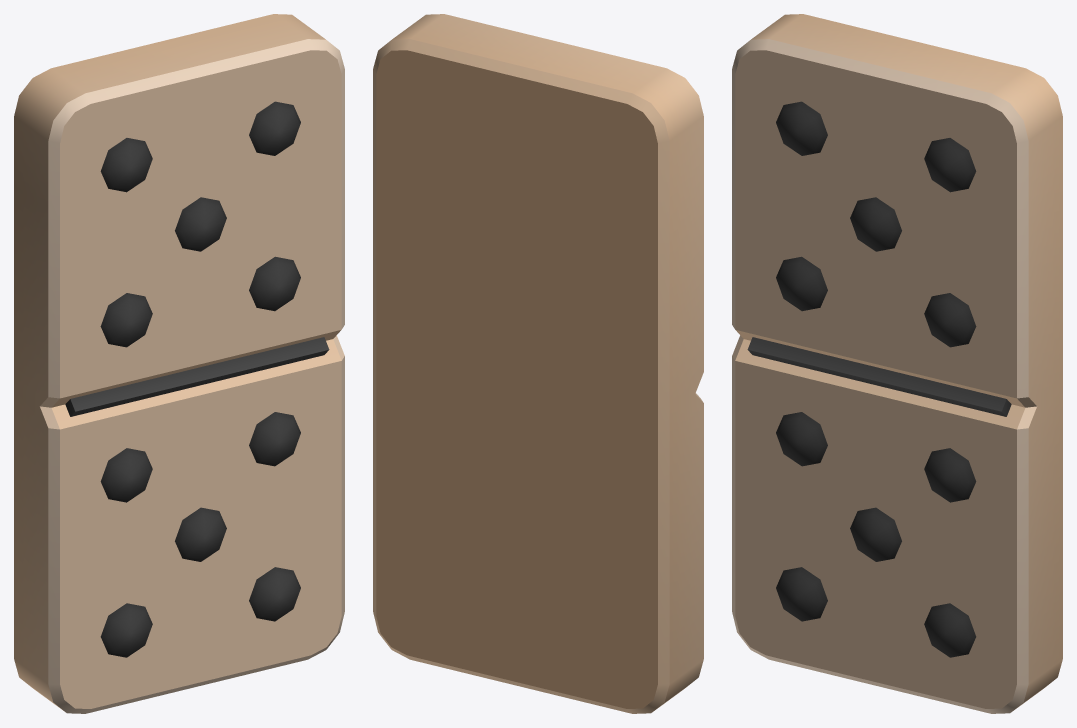
File: KFB_Domino_5-5.r1.glb
3 renders of one model, left to right at view 1: azimuth 30°, elevation 25°; view 2: azimuth 150°, elevation 25°; view 3: azimuth 330°, elevation 25°, orthographic.
Visible parts, largest first — view 1: KFB_Domino_5-5; view 2: KFB_Domino_5-5; view 3: KFB_Domino_5-5.
Part boxes in pixels (x1,y1,x2,y2): KFB_Domino_5-5: (14, 14, 344, 713); KFB_Domino_5-5: (373, 14, 703, 713); KFB_Domino_5-5: (732, 14, 1062, 713).
Size of the model in its own units: 2.44 by 4.87 by 0.6739.
Materials: 1 (1 with a texture image).
